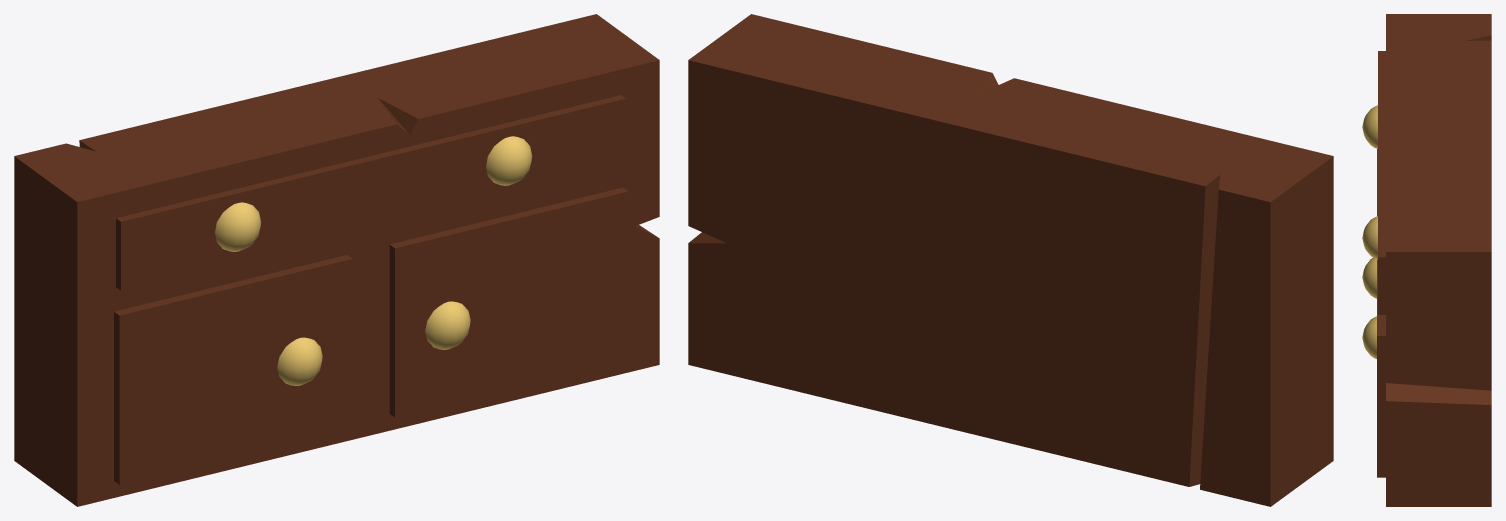
Rendered from wardrobe_long.fbx.
3 views of the same model, side by side, from view 1: azimuth 30°, elevation 25°; view 2: azimuth 150°, elevation 25°; view 3: azimuth 270°, elevation 25° (orthographic). The views are drawn at different scales.
Visible parts, largest first — view 1: Cube.004; view 2: Cube.004; view 3: Cube.004.
Part boxes in pixels (x1,y1,x2,y2): Cube.004: (14,14,659,506); Cube.004: (688,14,1333,506); Cube.004: (1362,14,1491,506).
Size of the model in its own units: 433 by 217 by 99.58.
